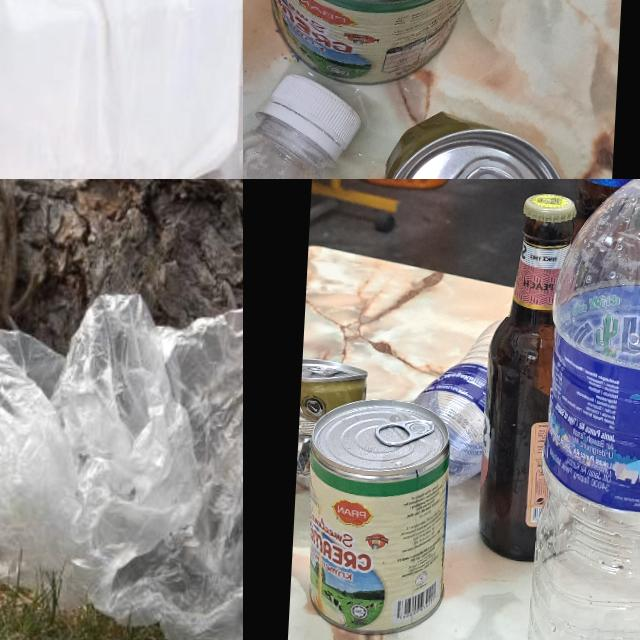aba de lata: (375, 416, 435, 449), (306, 365, 338, 376)
garrafa de vidro: (478, 192, 576, 564), (569, 179, 640, 243)
garrafa plástica: (527, 179, 640, 640), (410, 318, 508, 490)
lata: (300, 396, 453, 639), (243, 0, 513, 94), (344, 107, 577, 179), (296, 358, 368, 492)
sacola plástica: (0, 260, 243, 640), (0, 0, 243, 179)
tampa plástica: (260, 74, 362, 154)
